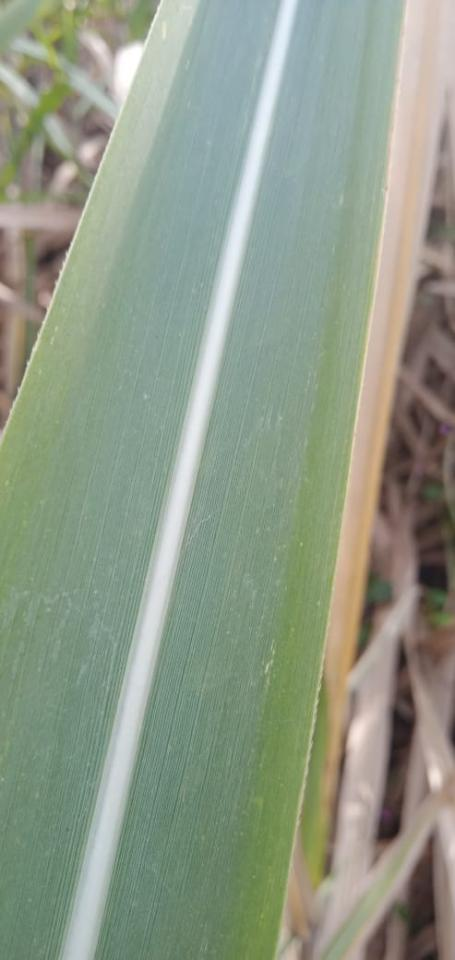Healthy: (0, 0, 402, 959)
